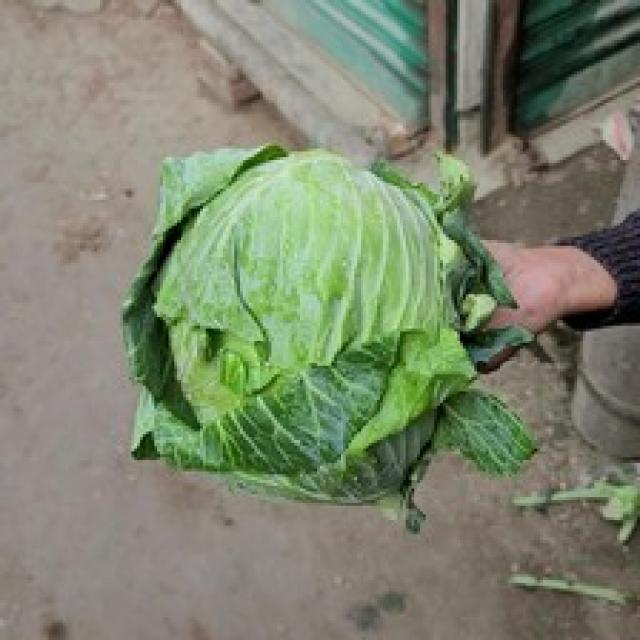Cabbage: (117, 140, 537, 531)
